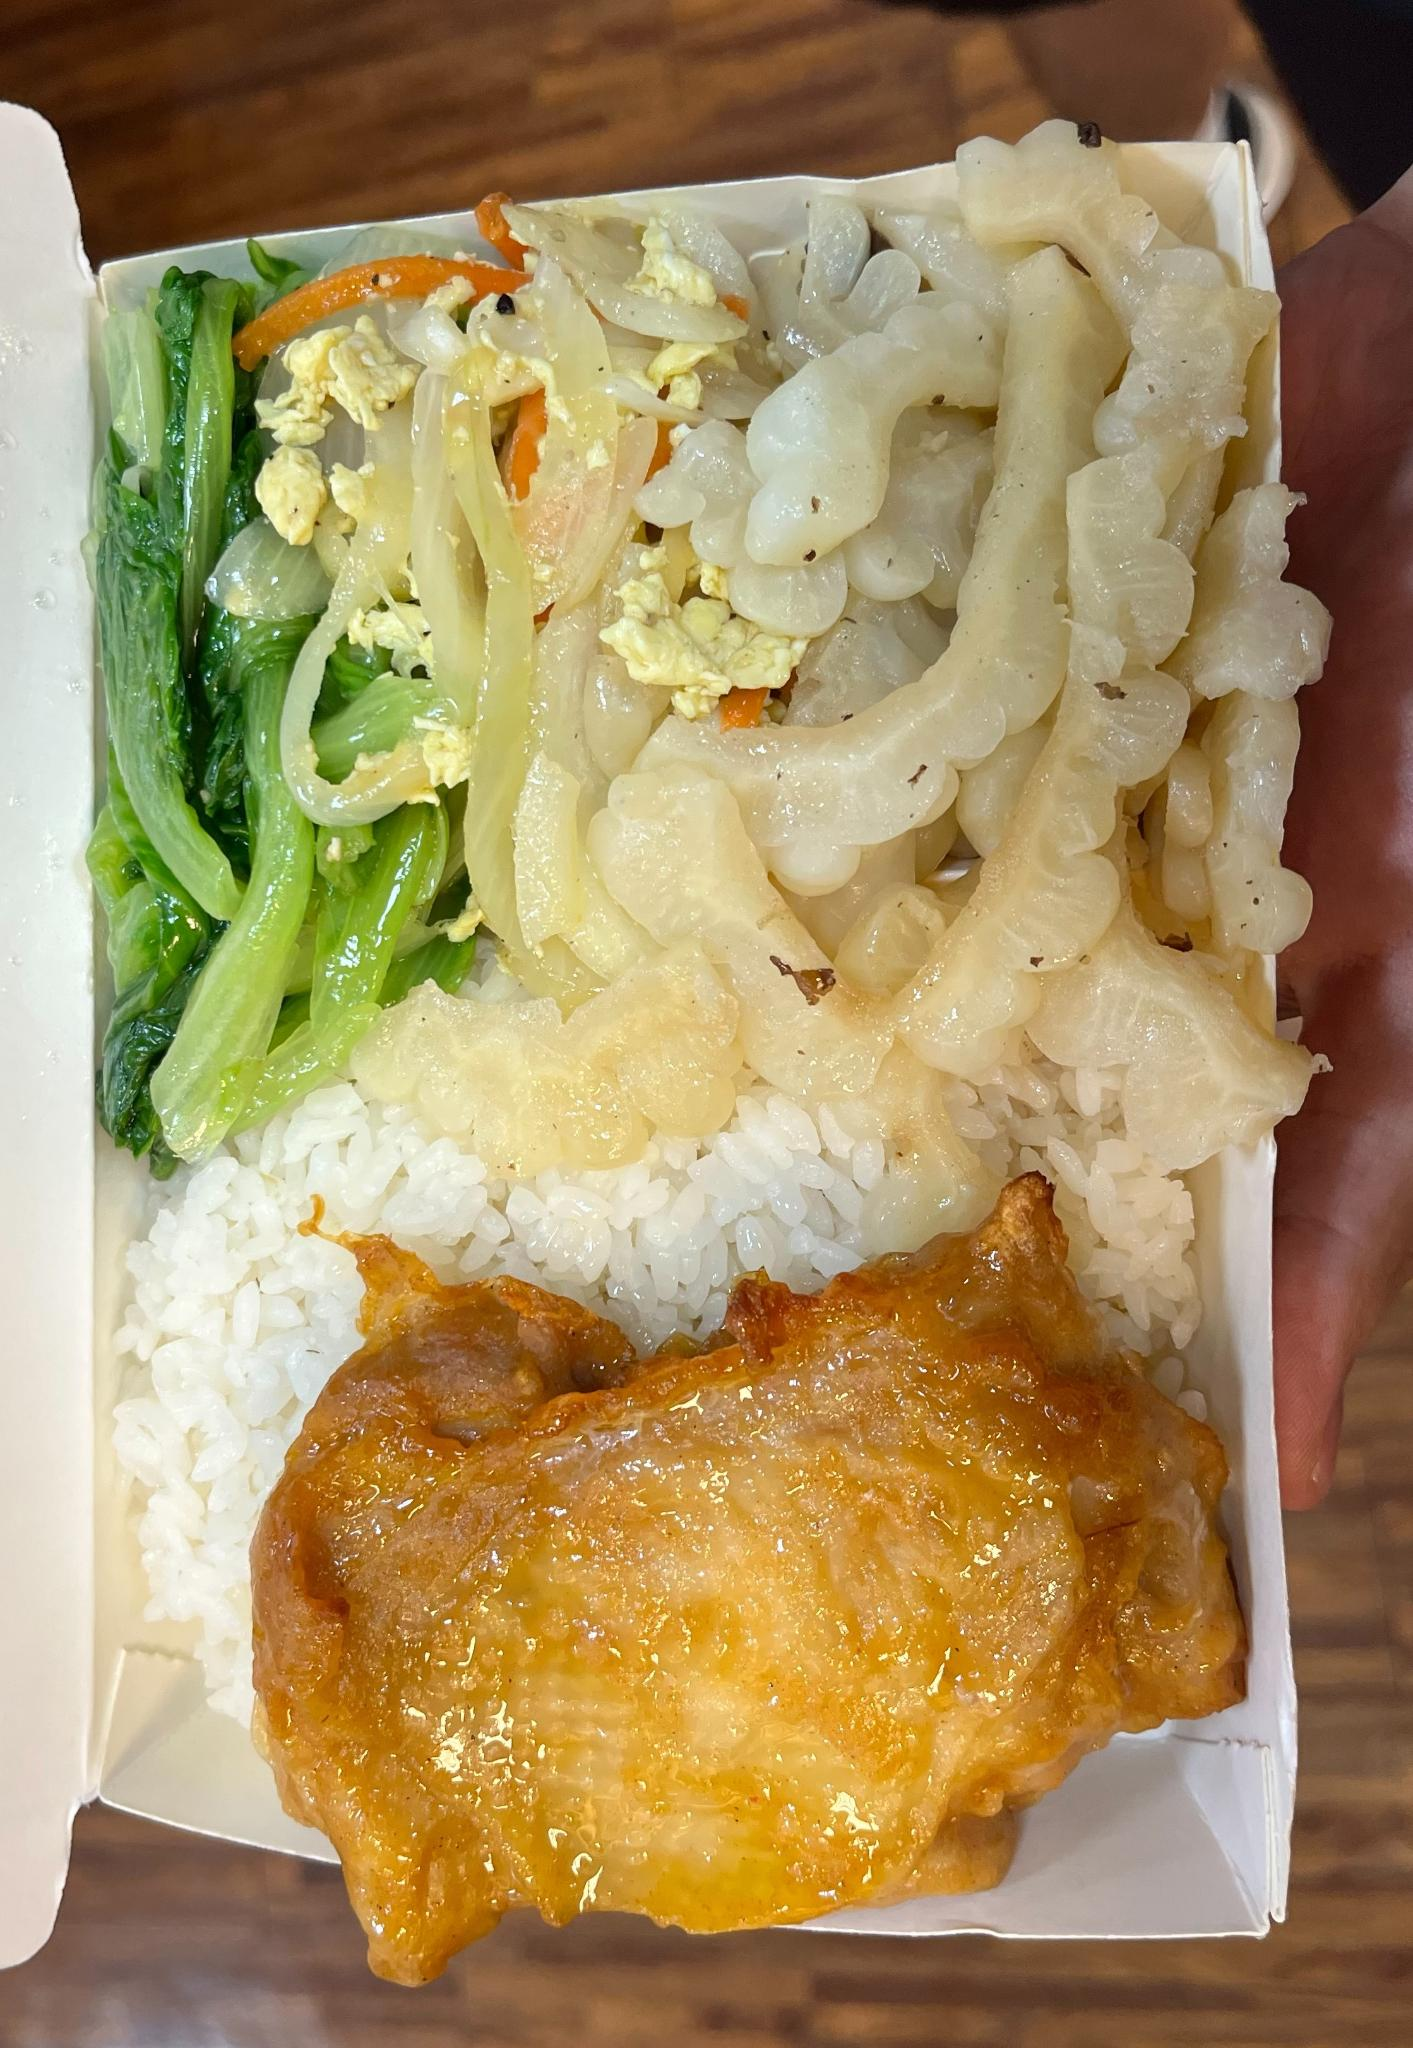big grilled chicken leg: (47, 121, 1341, 2004)
big herbal chicken leg: (115, 1063, 1240, 1791)
braised fish fillet: (721, 177, 1312, 1100), (386, 235, 831, 1155), (90, 260, 489, 1116)
braised pork: (261, 1195, 1262, 1984)
